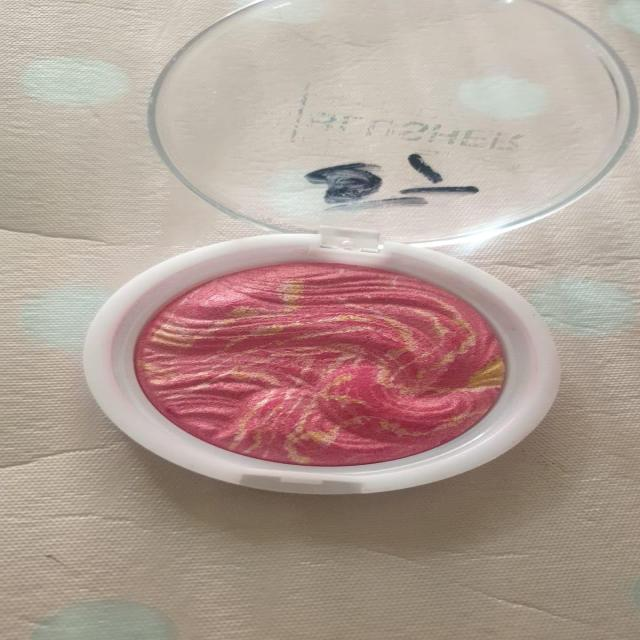blush: (120, 242, 554, 485)
